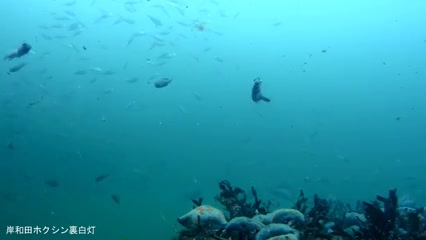smallfish: (150, 72, 176, 92)
